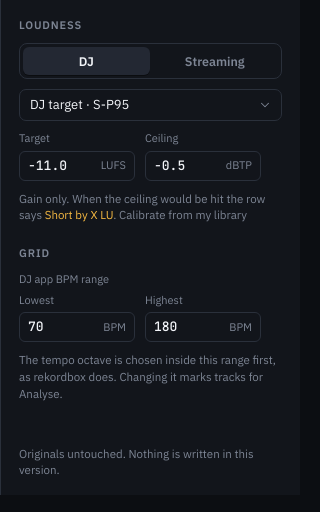
Test case: Rail › switching to Streaming replans with integrated loudness at -14 LUFS
Click the button "Streaming". click: coordinates (215, 61)
box: [152,47,278,75]
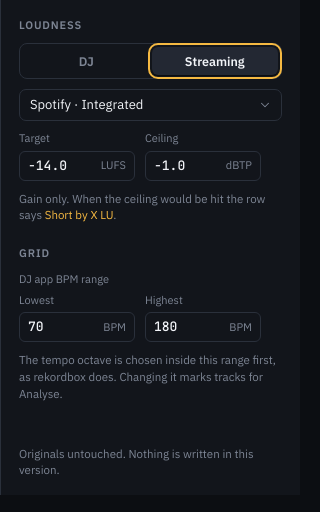
Result: the dropdown named "Preset" shows "Spotify · Integrated" at [19,89,282,121]
